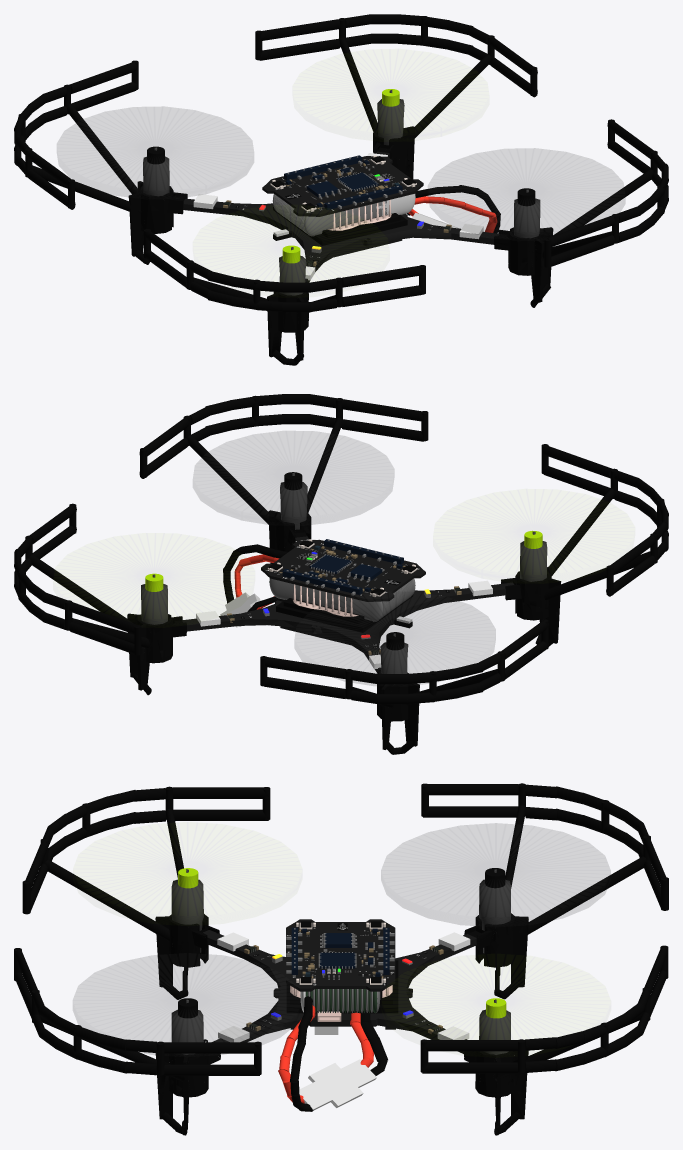
The model's file is FINAL_DRONE_1.4.glb.
3 views of the same model, one above another, from view 1: azimuth 30°, elevation 25°; view 2: azimuth 150°, elevation 25°; view 3: azimuth 270°, elevation 25° (orthographic). The views are drawn at different scales.
Visible parts, largest first — view 1: Rotor 4, Rotor 1, motor holder things, Cylinder (3) (×8), drone body, 7x15 motor Default sldprt_1, Cube, Cylinder (1) (×3), Cylinder (×2), Cube (162), header Default sldprt_4, Cube (7) (+1 smaller); view 2: Rotor 1, Rotor 4, motor holder things, Cylinder (3) (×8), drone body, 7x15 motor Default sldprt_1, Cube, Cylinder (1) (×3), Cylinder (×3), Cube (162), header Default sldprt_4, Cube (7) (+2 smaller); view 3: Rotor 4, Rotor 1, motor holder things, Cylinder (2) (×8), drone body, Cube (×2), 7x15 motor Default sldprt_1, Cylinder (×4), Cube (1), Cylinder (1) (×2), Cube (2), Cube (162).
Part boxes in pixels (x1,y1,x2,y2): Rotor 4: [57, 107, 253, 198]; Rotor 1: [428, 148, 624, 240]; motor holder things: [128, 123, 553, 360]; Cylinder (3) (×8): [69, 19, 614, 306]; drone body: [183, 151, 499, 282]; 7x15 motor Default sldprt_1: [143, 90, 540, 295]; Cube: [266, 156, 420, 216]; Cylinder (1) (×3): [31, 54, 653, 242]; Cylinder (×2): [66, 37, 377, 194]; Cube (162): [273, 205, 407, 245]; header Default sldprt_4: [327, 199, 391, 230]; Cube (7): [284, 155, 362, 180]; Rotor 1: [193, 431, 393, 525]; Rotor 4: [295, 592, 495, 685]; motor holder things: [127, 507, 561, 749]; Cylinder (3) (×8): [69, 399, 612, 698]; drone body: [182, 536, 514, 672]; 7x15 motor Default sldprt_1: [141, 472, 547, 673]; Cube: [264, 539, 422, 601]; Cylinder (1) (×3): [29, 434, 650, 623]; Cylinder (×3): [72, 418, 614, 647]; Cube (162): [276, 594, 413, 632]; header Default sldprt_4: [293, 584, 358, 616]; Cube (7): [282, 569, 362, 594]; Rotor 4: [381, 823, 610, 926]; Rotor 1: [73, 953, 301, 1056]; motor holder things: [155, 913, 528, 1129]; Cylinder (2) (×8): [164, 784, 518, 1075]; drone body: [203, 930, 476, 1053]; Cube (×2): [286, 922, 395, 988]; 7x15 motor Default sldprt_1: [171, 869, 510, 1082]; Cylinder (×4): [38, 856, 646, 1077]; Cube (1): [299, 1059, 376, 1110]; Cylinder (1) (×2): [165, 805, 525, 888]; Cube (2): [308, 1063, 363, 1107]; Cube (162): [286, 960, 398, 1013].
Size of the model in its own units: 16.96 by 4.59 by 17.95.
Materials: 28 (3 with a texture image).
